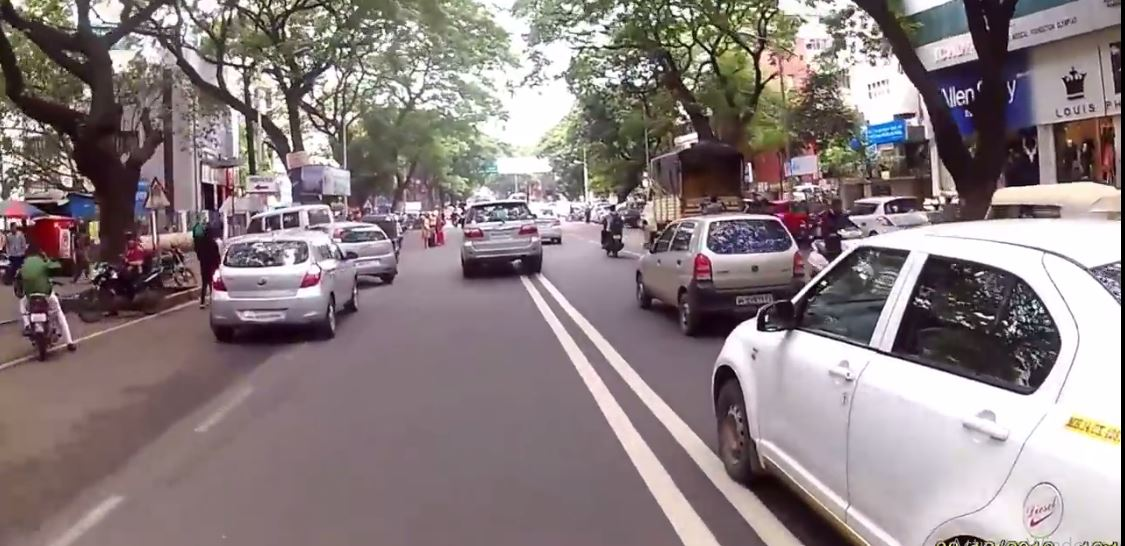car: (709, 214, 1125, 544), (620, 199, 807, 327), (205, 225, 362, 350), (454, 195, 551, 282), (328, 213, 408, 286), (846, 184, 931, 235), (531, 199, 566, 248)
